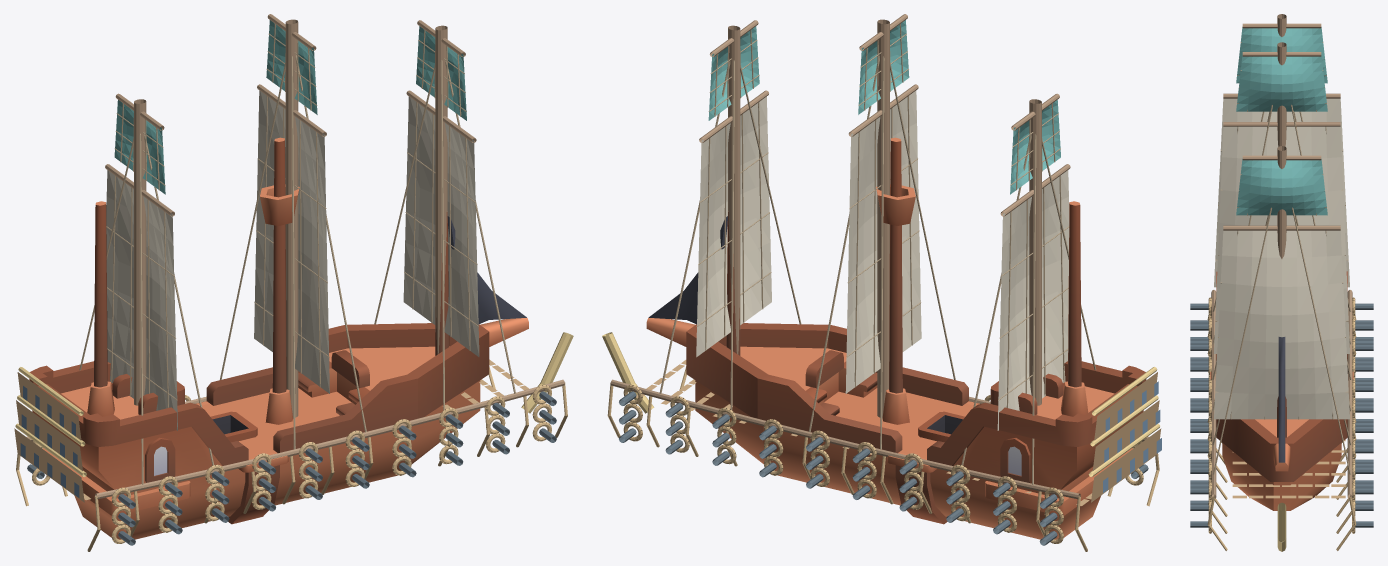
Rendered from ship_of_line-custom.glb.
3 views of the same model, side by side, from view 1: azimuth 30°, elevation 25°; view 2: azimuth 150°, elevation 25°; view 3: azimuth 270°, elevation 25° (orthographic). The views are drawn at different scales.
Parts seen in each view (by area): view 1: ship_of_line-custom-geometry, ship-pirate-large; view 2: ship_of_line-custom-geometry, ship-pirate-large; view 3: ship_of_line-custom-geometry, ship-pirate-large.
Part boxes in pixels (bbox=[...]): ship_of_line-custom-geometry: bbox=[14, 14, 573, 551]; ship-pirate-large: bbox=[29, 137, 528, 539]; ship_of_line-custom-geometry: bbox=[602, 14, 1161, 551]; ship-pirate-large: bbox=[646, 137, 1146, 539]; ship_of_line-custom-geometry: bbox=[1190, 14, 1373, 551]; ship-pirate-large: bbox=[1210, 271, 1353, 510].
Bounding box in the file's own units: 50.56 × 43 × 17.
Materials: 10 (1 with a texture image).
